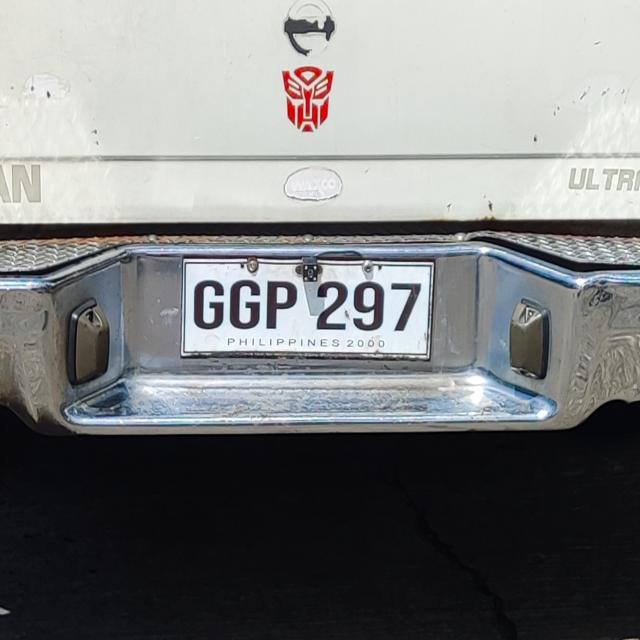LicensePlate: (164, 248, 450, 374)
